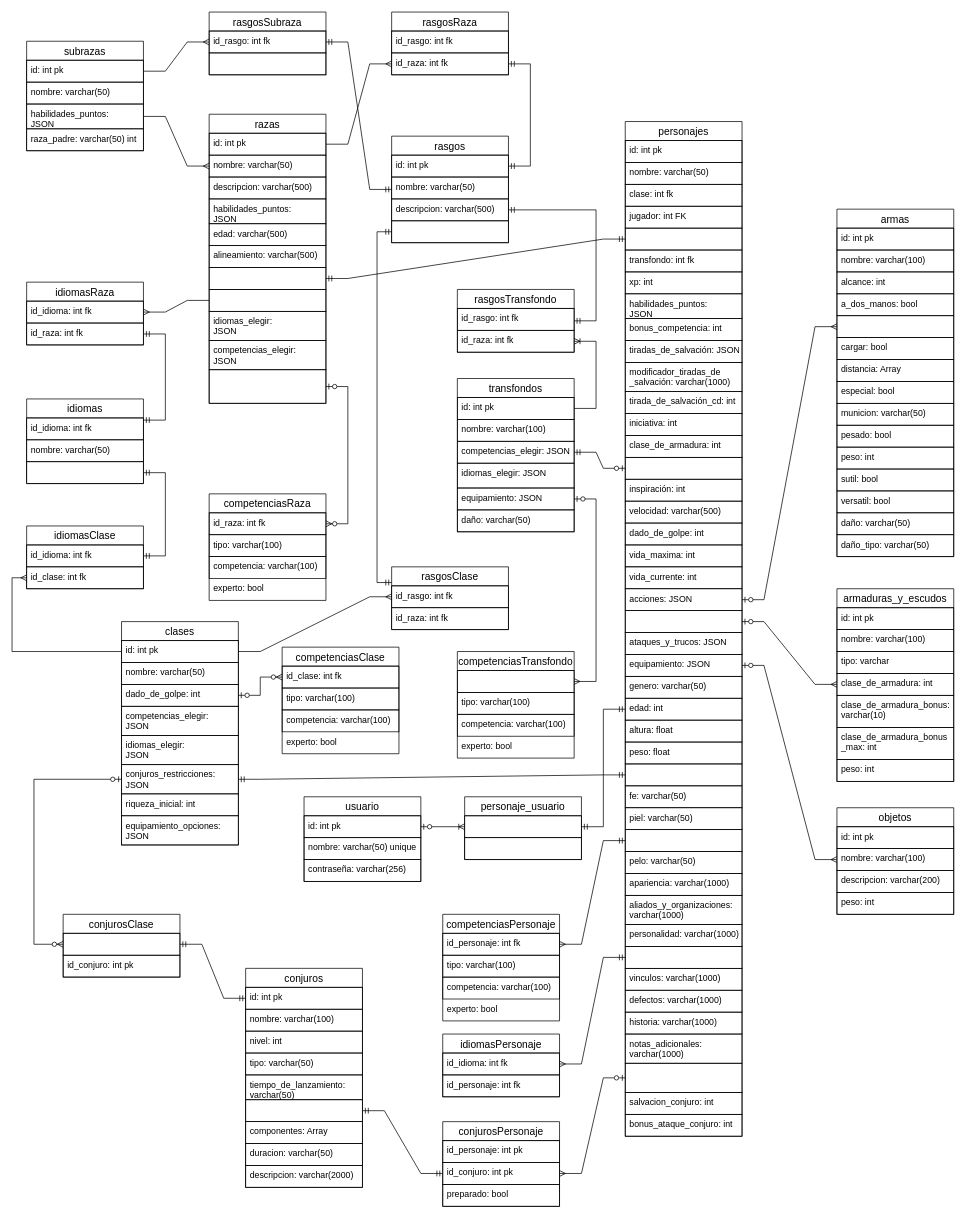
Some shapes in this 966 by 1218 pixel diagram are drawn without their labels. The centre of each missing label's shape, as x and y in pixels:
"activo: bool" belongs at pixel 449 231.
"alcance: varchar(50)" belongs at pixel 303 1110.
"alineamiento: varchar(50)" belongs at pixel 683 774.
"arrojadiza: bool" belongs at pixel 895 326.
"defensas: JSON" belongs at pixel 683 468.
"descripcion: varchar(1000)" belongs at pixel 84 472.
"espacios_de_conjuros: JSON" belongs at pixel 267 386.
"habilidad_de_conjuros: varchar(50)" belongs at pixel 683 1077.
"id_clase: int pk" belongs at pixel 121 944.
"id_subraza: int fk" belongs at pixel 267 63.
"id_transfondo: int fk" belongs at pixel 515 681.
"ideales: varchar(1000)" belongs at pixel 683 957.
"ojos: varchar(50)" belongs at pixel 683 840.
"personaje_id: int fk" belongs at pixel 522 848.
"raza: int fk" belongs at pixel 683 238.
"sentidos: varchar(500)" belongs at pixel 683 621.
"tamaño: varchar(50)" belongs at pixel 267 278.
"usuario_id: int fk" belongs at pixel 522 826.
"velocidad: int" belongs at pixel 267 300.
